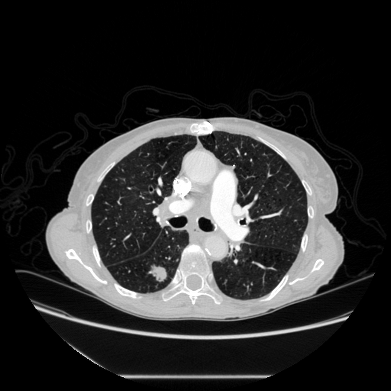nodule: (151, 265, 167, 281)
